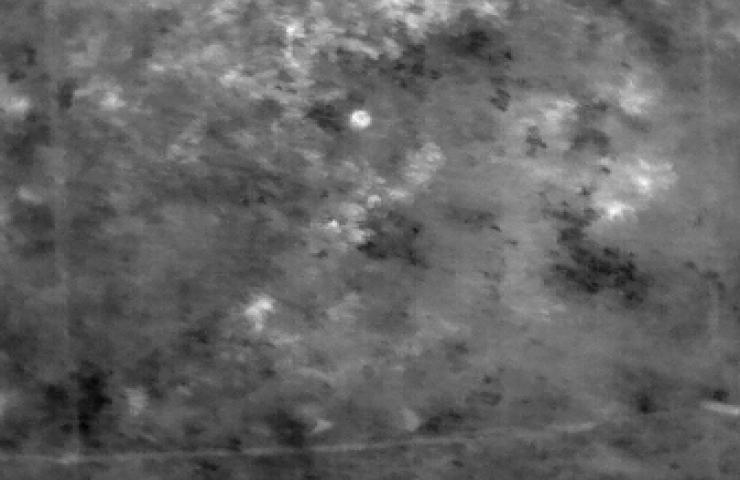landmines: (350, 107, 377, 133)
